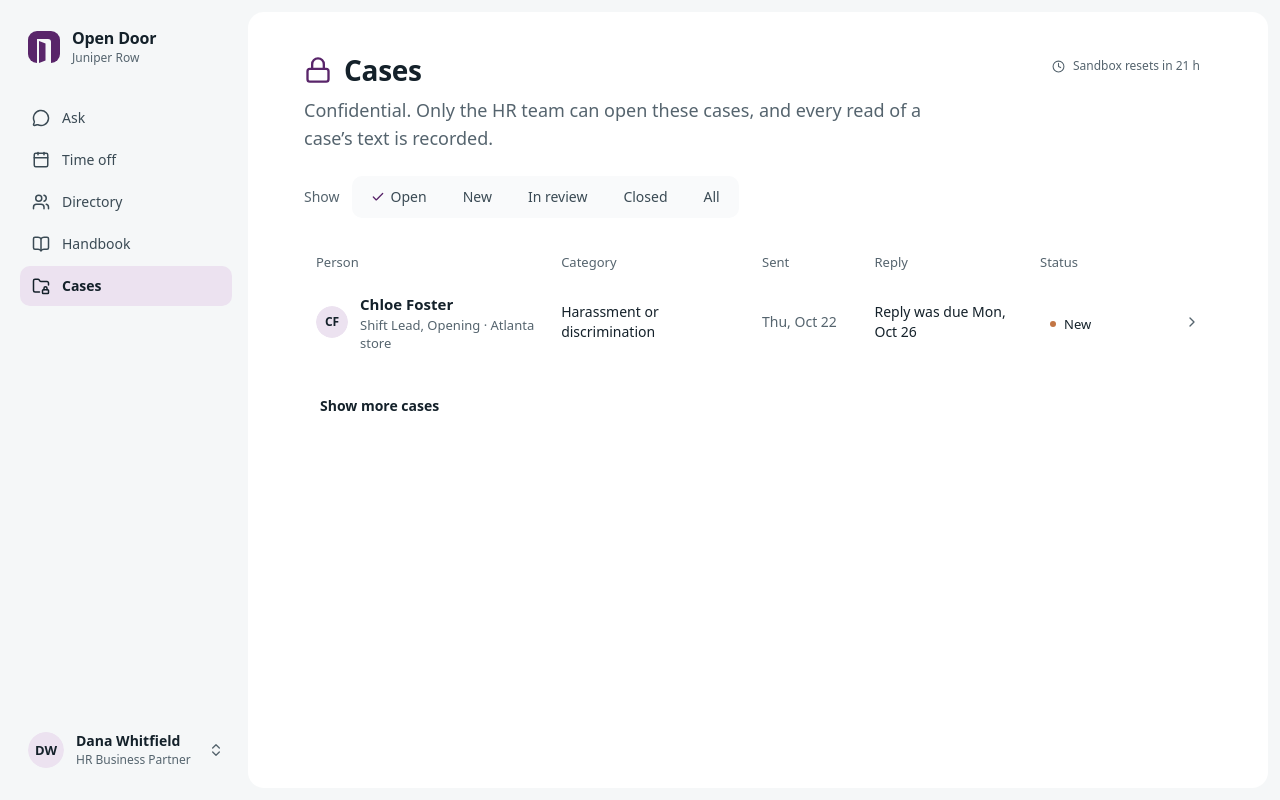
Test: the queue › pages with the cursor: more cases are added under the first page
Expected: the text "Keisha Zhang" is not shown
Click the button "Show more cases": (380, 406) [304,386,455,426]
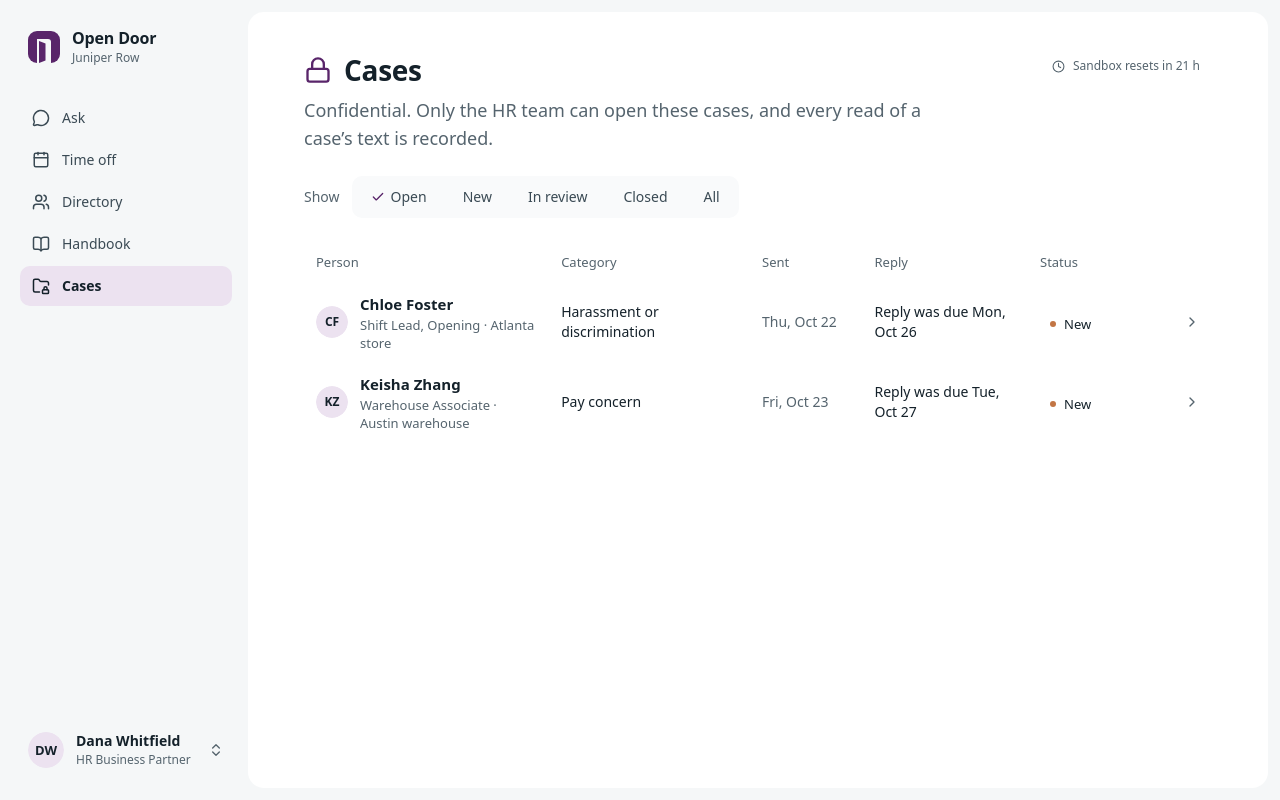
Expected: the text "Chloe Foster" is shown, [360,294,453,314]
Expected: the text "Keisha Zhang" is shown, [360,374,461,394]
Expected: the button "Show more cases" is gone
